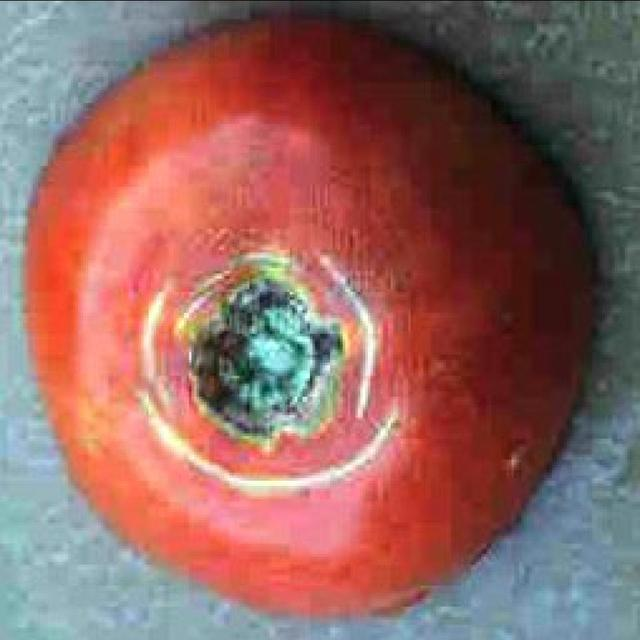Cracking Fruit: (28, 65, 230, 295)
